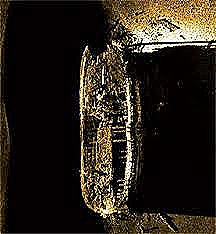ship: (78, 39, 142, 220)
